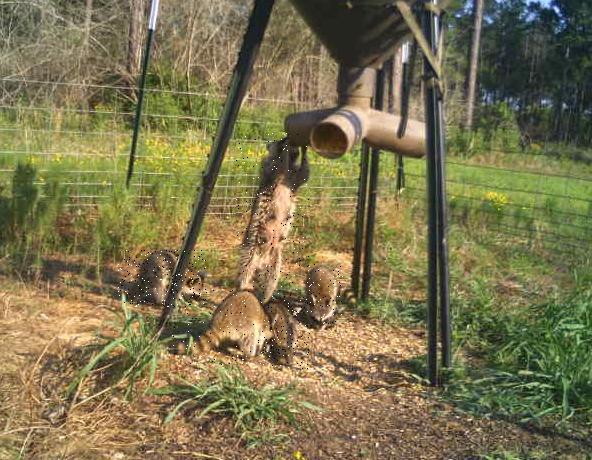Raccoon: (236, 133, 310, 310), (171, 289, 276, 366), (119, 250, 207, 307), (260, 294, 310, 369), (302, 264, 344, 324)
